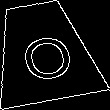O_N: (12, 23, 74, 82)
